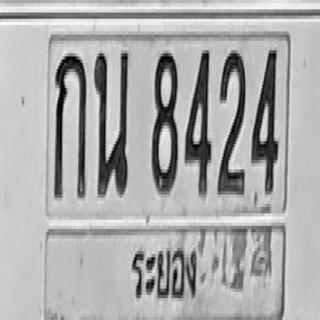A01: (53, 50, 86, 198)
A25: (94, 47, 129, 198)
N02: (217, 47, 246, 194)
N04: (251, 46, 278, 193), (185, 47, 211, 194)
N08: (151, 50, 178, 194)
P53: (125, 231, 198, 311)
